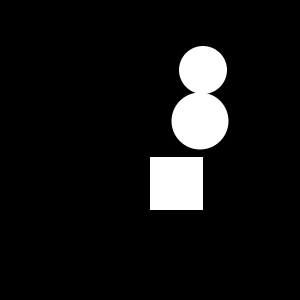circle: (150, 157, 203, 210)
rectangle: (172, 92, 228, 150), (179, 46, 227, 94)
